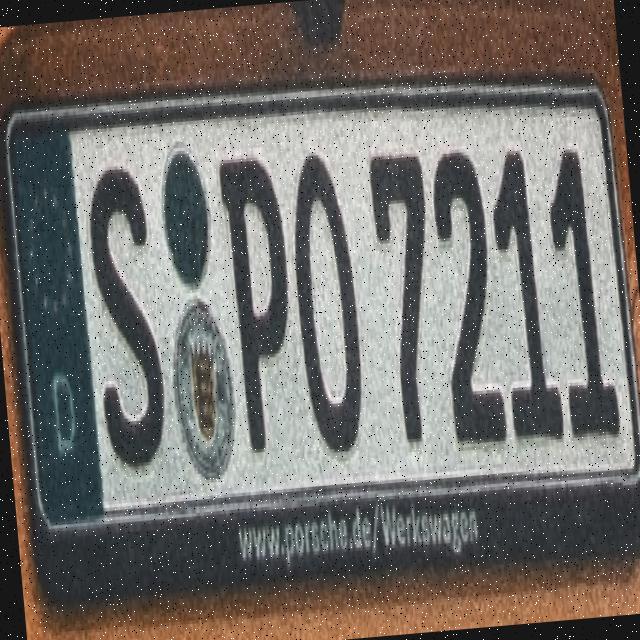Allemagne: (8, 111, 105, 523)
EU: (3, 99, 640, 526)
